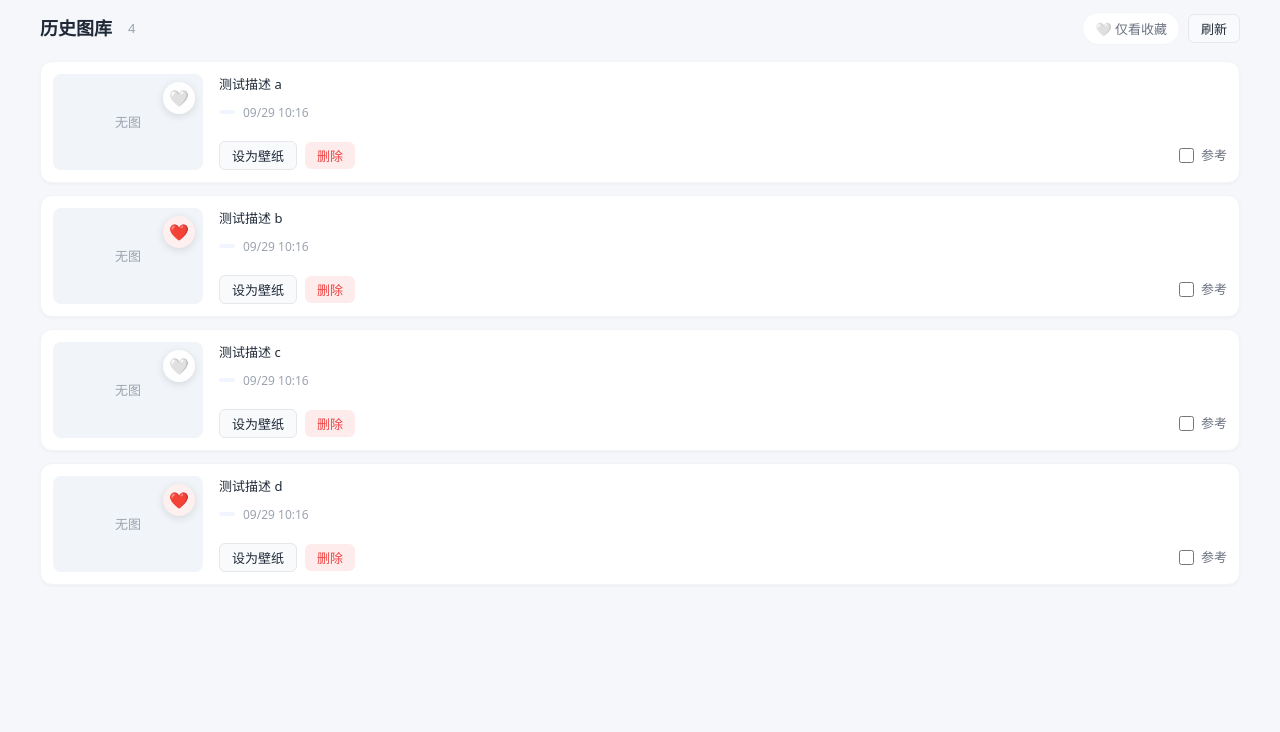
Test: HistoryPanel · 收藏功能（B5 验收） › 「仅看收藏」筛选只显示收藏项
The width and height of the screenshot is (1280, 732).
Check: the number of list items with class "history-item" is 4, box [40,61,1240,183]; [40,195,1240,317]; [40,329,1240,451]; [40,463,1240,585]
Click the button "🤍 仅看收藏" at (1131, 28), box [1082,12,1180,45]
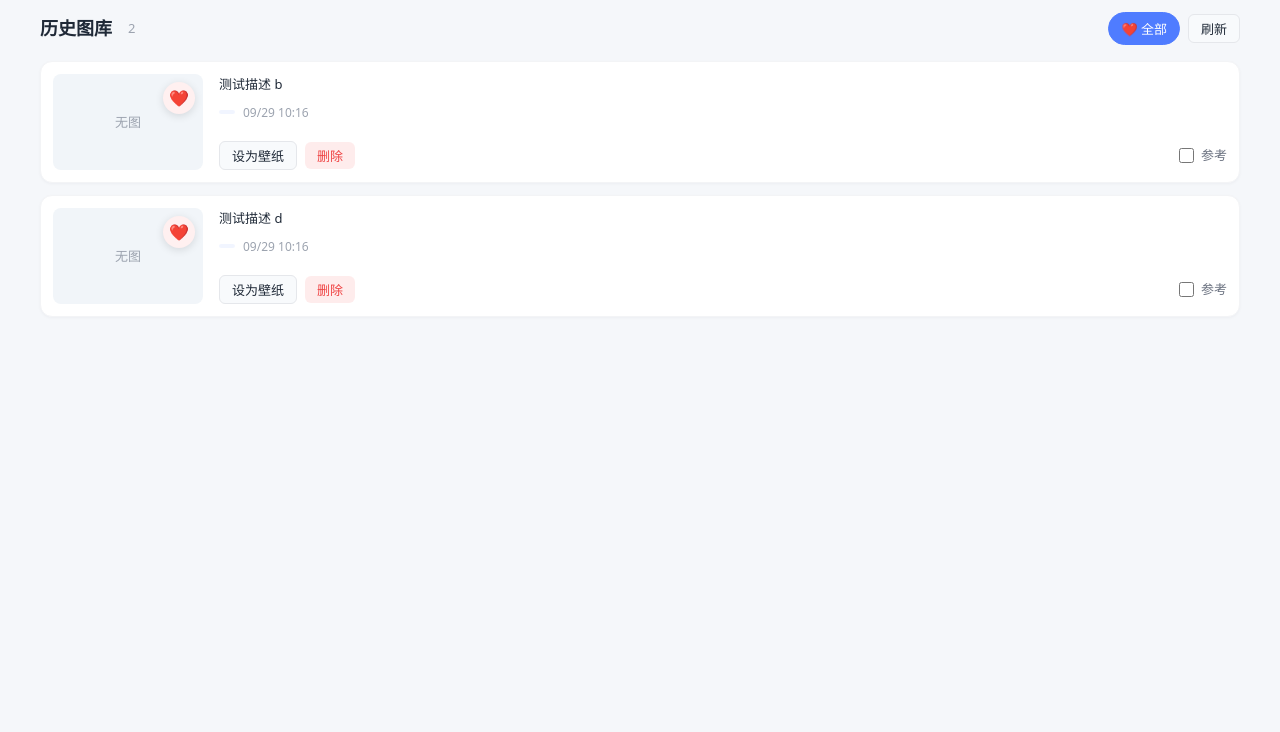
Check: the number of list items with class "history-item" is 2, box [40,61,1240,183]; [40,195,1240,317]
